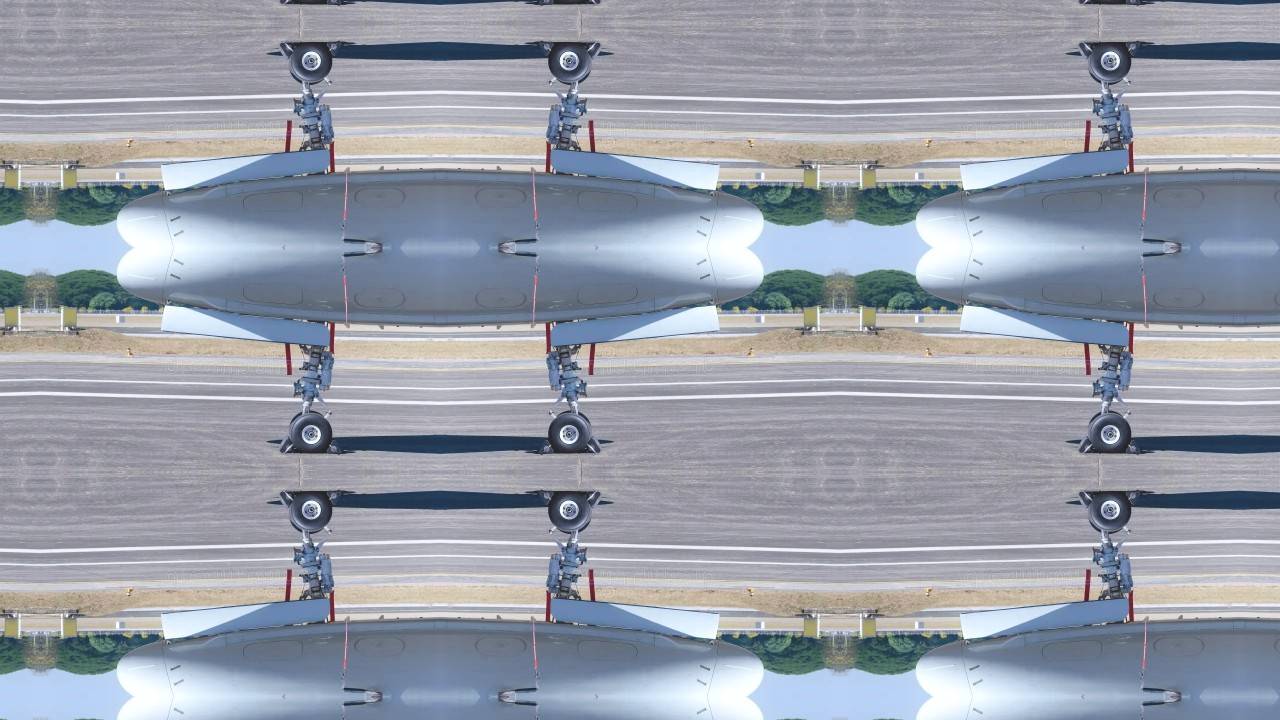chock: (277, 41, 295, 60), (585, 41, 603, 60), (1077, 41, 1095, 60), (277, 435, 295, 454), (585, 435, 603, 454), (1077, 435, 1095, 454), (277, 491, 295, 510), (585, 491, 603, 510), (1077, 491, 1095, 510), (326, 41, 343, 56), (537, 41, 554, 56), (1126, 41, 1143, 56), (326, 439, 343, 454), (537, 439, 554, 454), (1126, 439, 1143, 454), (326, 491, 343, 506), (537, 491, 554, 506), (1126, 491, 1143, 506), (277, 0, 295, 4), (585, 0, 603, 4), (1077, 0, 1095, 4), (326, 0, 343, 4), (537, 0, 554, 4), (1126, 0, 1143, 4)
wheel: (286, 41, 333, 86), (547, 41, 594, 86), (1086, 41, 1133, 86), (286, 491, 333, 536), (547, 491, 594, 536), (1086, 491, 1133, 536), (286, 410, 333, 454), (547, 410, 594, 454), (1086, 410, 1133, 454), (289, 68, 324, 86), (556, 68, 591, 86), (1089, 68, 1124, 86), (289, 518, 324, 536), (556, 518, 591, 536), (1089, 518, 1124, 536), (289, 410, 324, 427), (556, 410, 591, 427), (1089, 410, 1124, 427)
